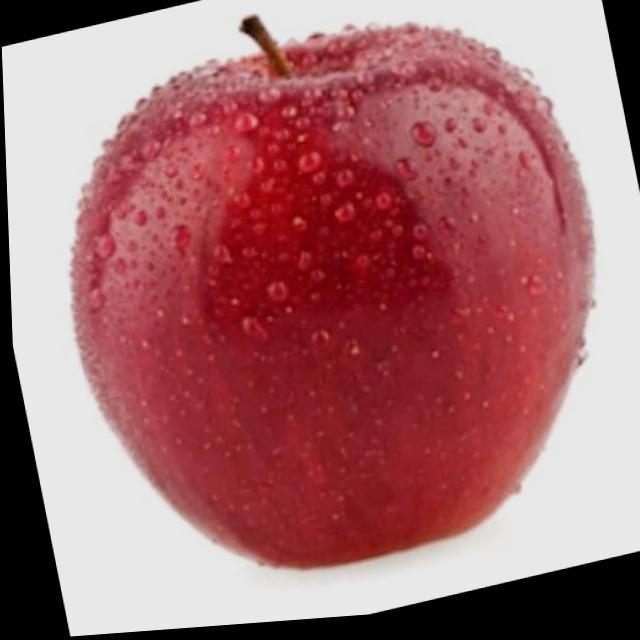Apple: (18, 0, 640, 623)
